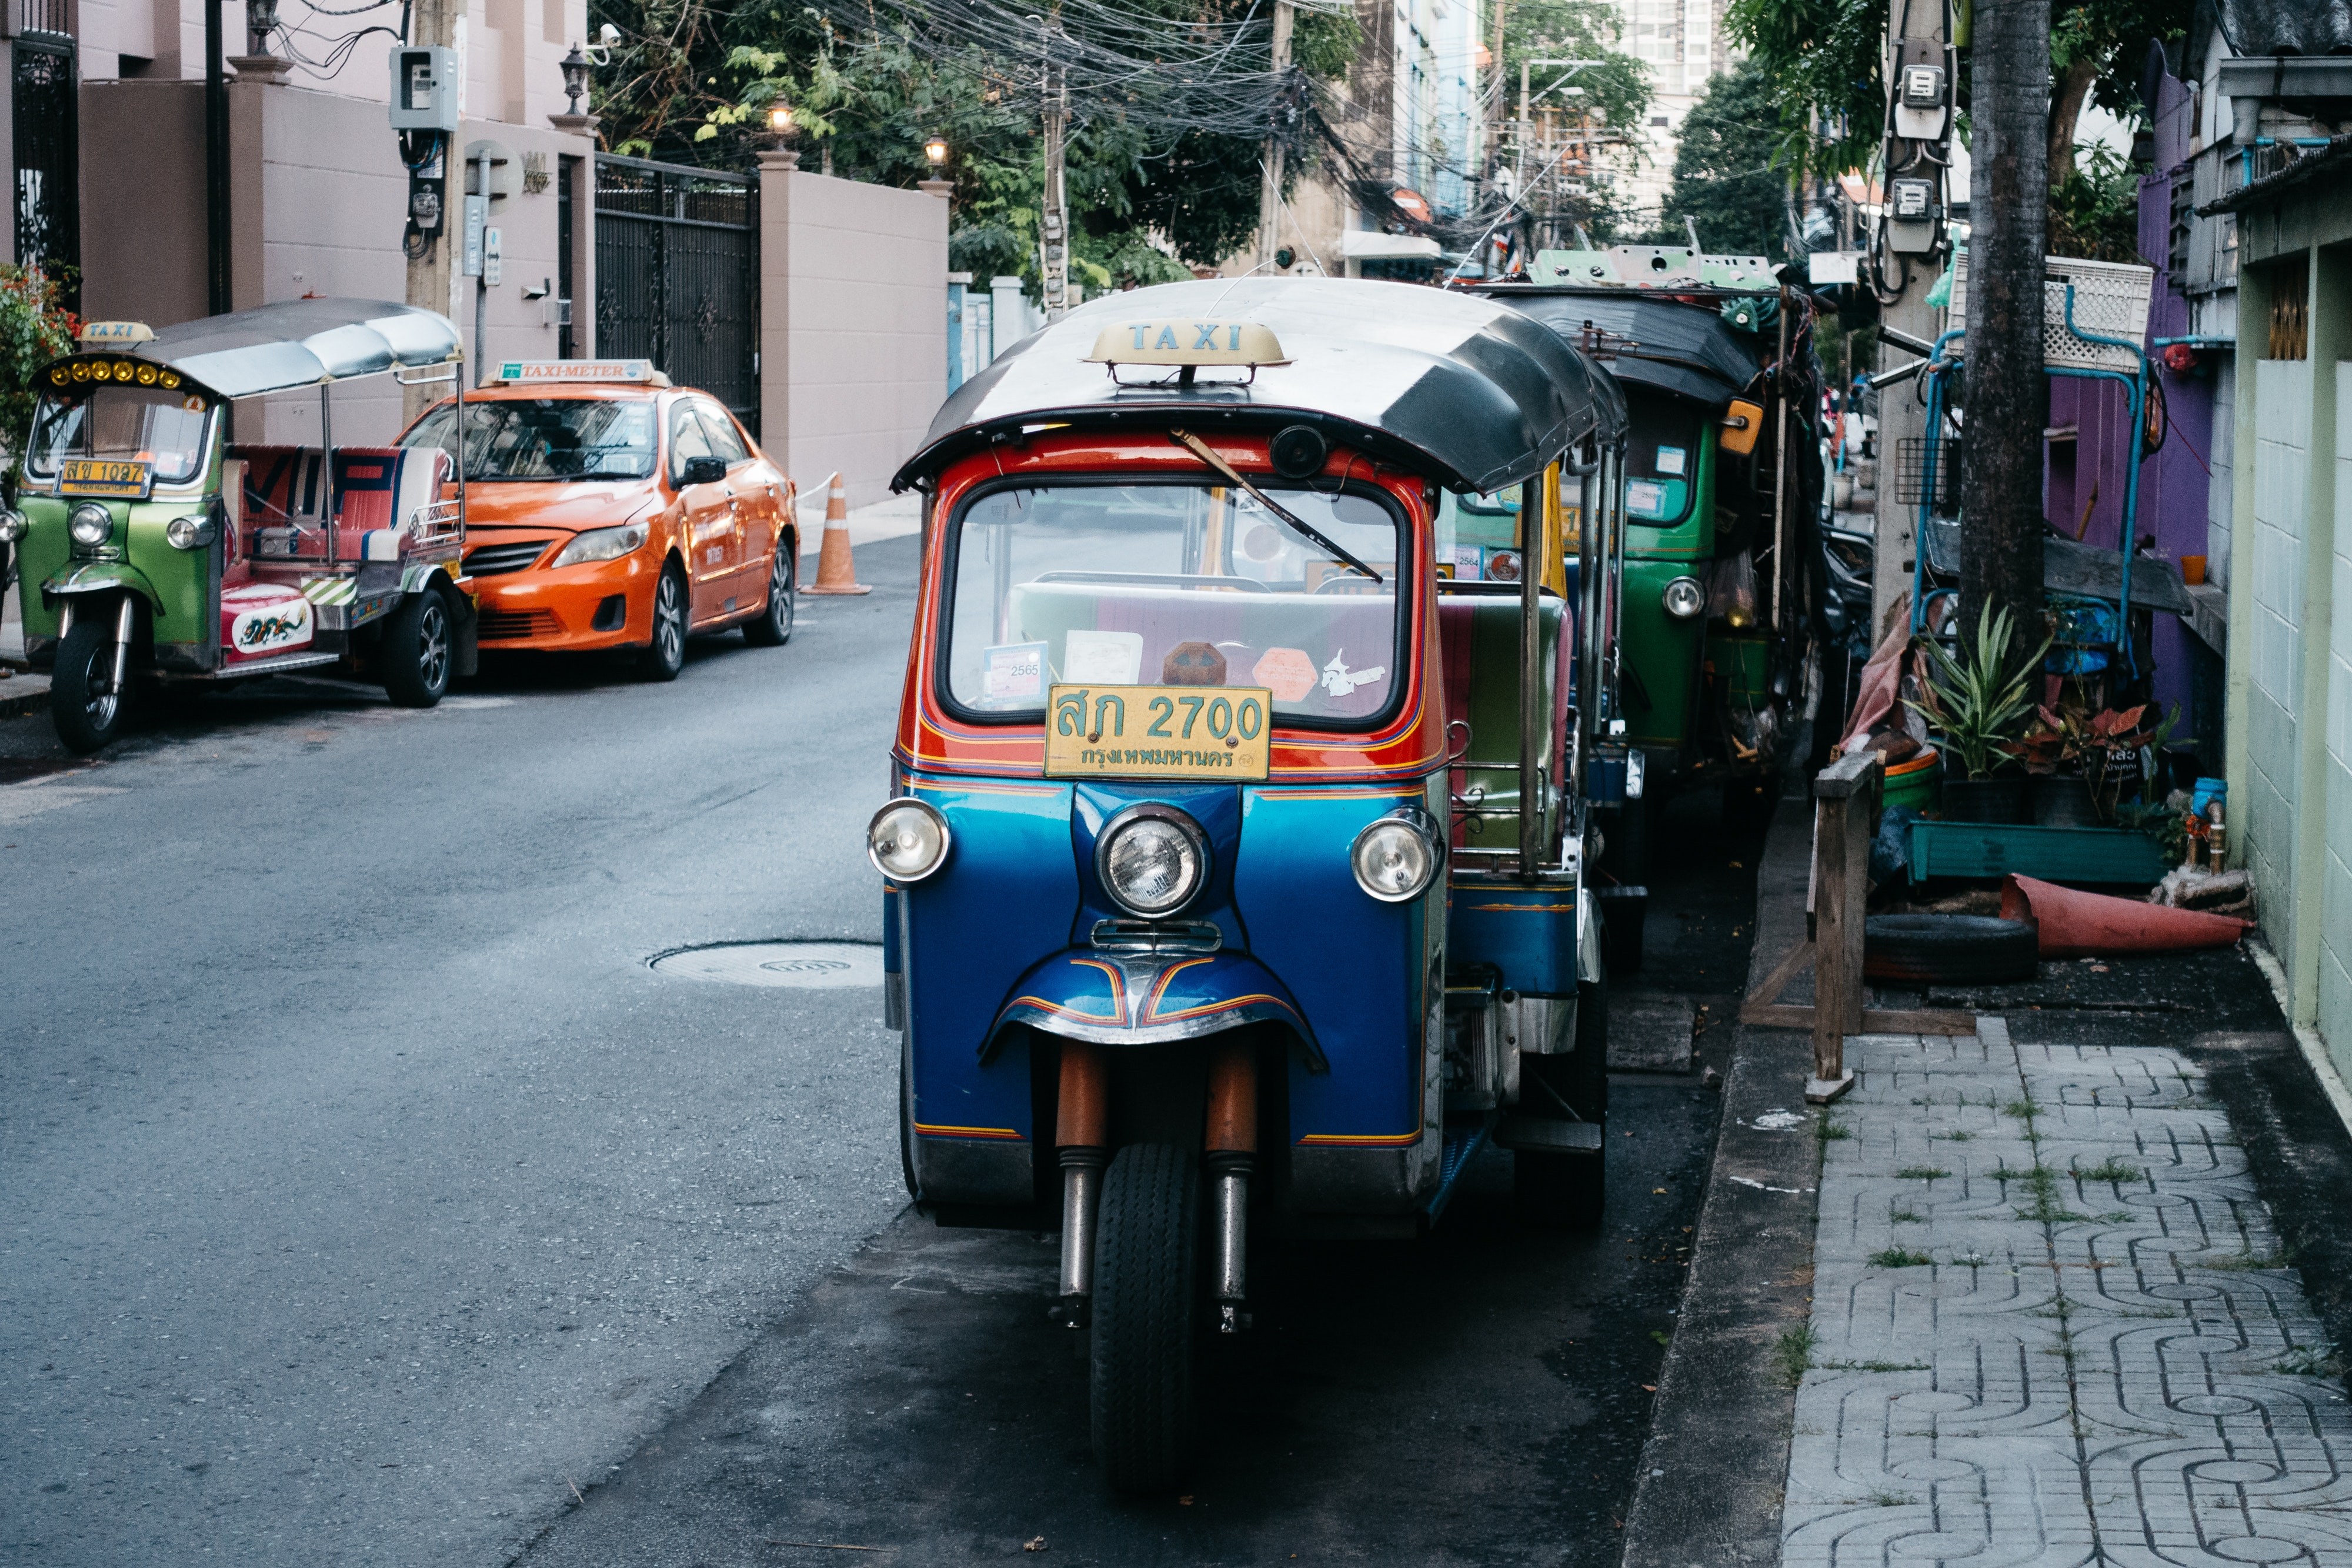car: (394, 371, 803, 688)
threewheel: (863, 276, 1624, 1491), (5, 294, 472, 735)
